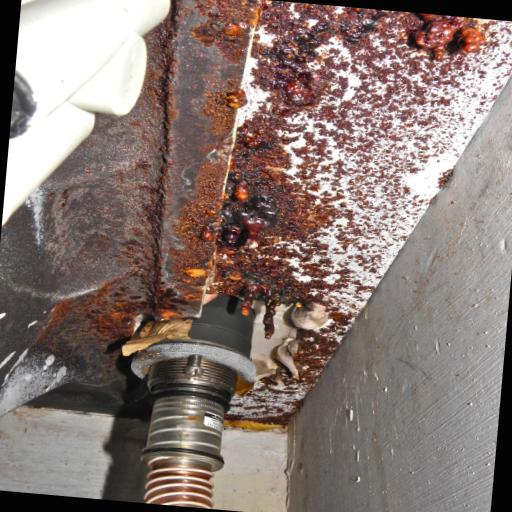segmentation: (0, 0, 512, 428), (0, 0, 178, 417)
